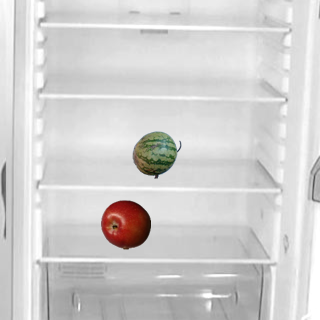Apple Braeburn: (100, 199, 150, 249)
Watermelon: (131, 129, 181, 179)
